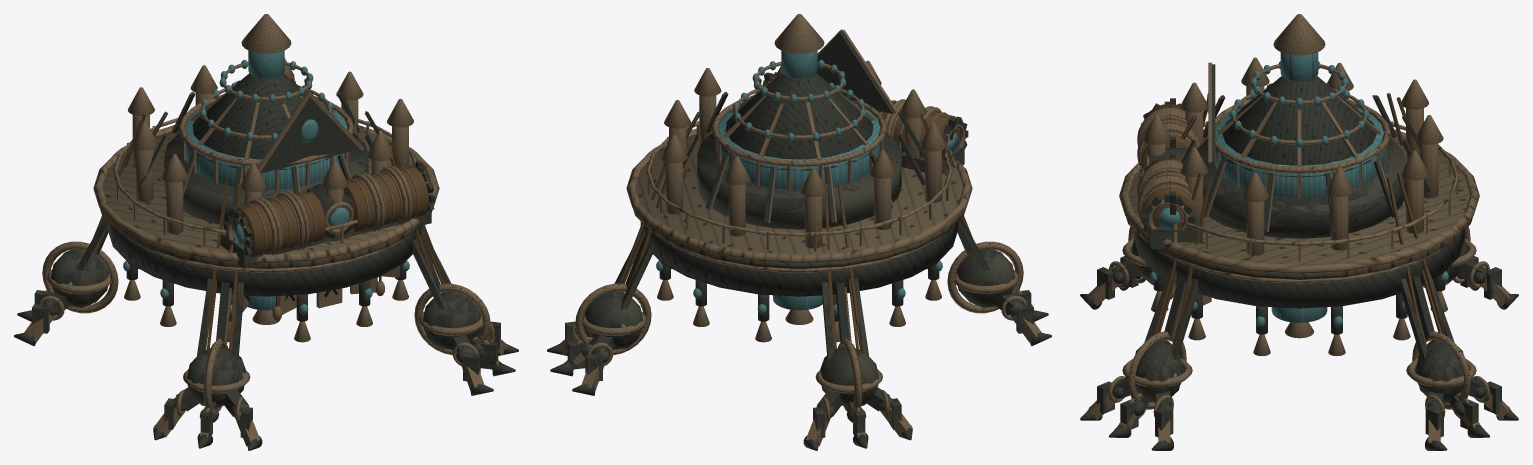
File: salvage-claw-detail-sol.glb
The picture shows the model from 3 angles, left to right: view 1: azimuth 30°, elevation 25°; view 2: azimuth 150°, elevation 25°; view 3: azimuth 270°, elevation 25°; orthographic projection. The views are drawn at different scales.
Parts seen in each view (by area): view 1: crown, anchor_feet, winch; view 2: crown, anchor_feet, winch; view 3: crown, anchor_feet, winch.
Boxes of the visible parts, left/top/right/bottom form: crown: left=93, top=14, right=439, bottom=342; anchor_feet: left=14, top=77, right=518, bottom=450; winch: left=220, top=161, right=435, bottom=321; crown: left=626, top=14, right=972, bottom=342; anchor_feet: left=547, top=77, right=1051, bottom=450; winch: left=762, top=72, right=968, bottom=173; crown: left=1119, top=14, right=1479, bottom=355; anchor_feet: left=1080, top=93, right=1518, bottom=450; winch: left=1137, top=98, right=1202, bottom=299.
Size of the model in its own units: 11.4 by 10.03 by 11.4.
Materials: 1 (1 with a texture image).
